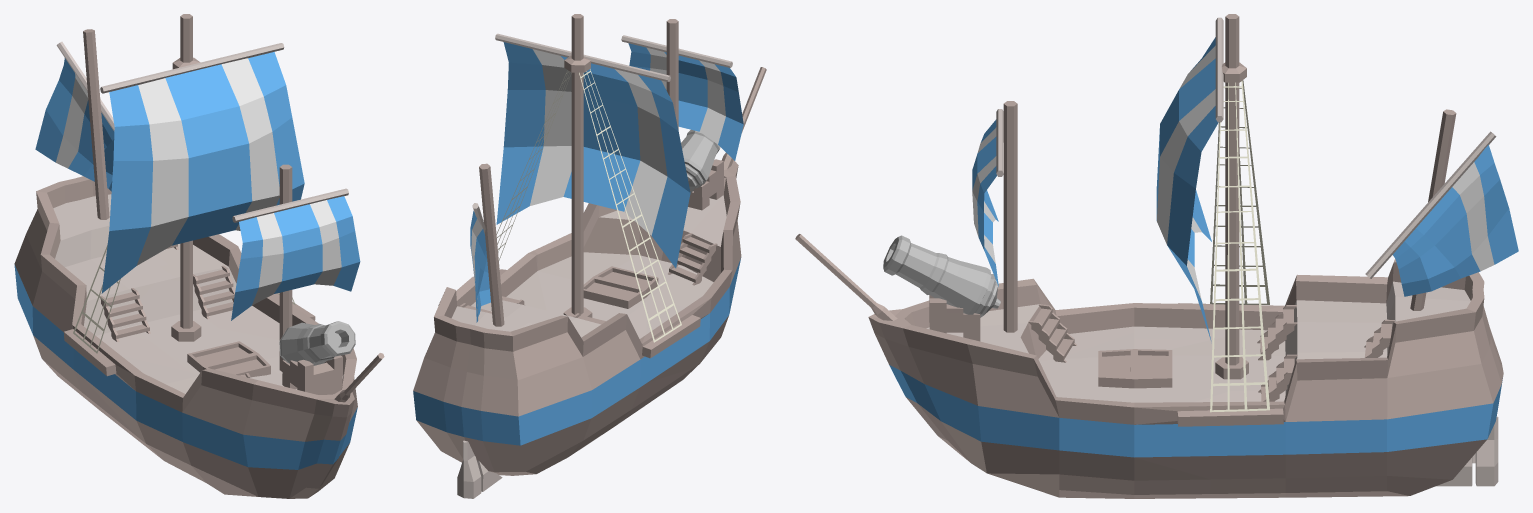
The model's file is calionSon.fbx.
The picture shows the model from 3 angles, left to right: view 1: azimuth 30°, elevation 25°; view 2: azimuth 150°, elevation 25°; view 3: azimuth 270°, elevation 25°; orthographic projection. The views are drawn at different scales.
Visible parts, largest first — view 1: hullFront.010, sailMiddle.012, hullBack.010, sailFront.002, sailBack.002, cannon.002, mastBack.002, cannonSeat.002, mastMiddle.006, ladder.008, Cylinder.038, ladder.007 (+6 smaller); view 2: hullBack.010, sailMiddle.012, hullFront.010, sailFront.002, mastMiddle.006, ropes.002, mastBack.002, cannon.002, sailBack.002, rudder.002, ladder.006, Cylinder.038 (+4 smaller); view 3: hullBack.010, hullFront.010, sailBack.002, sailMiddle.012, ropes.002, cannon.002, mastMiddle.006, mastFront.002, sailFront.002, rudder.002, Cylinder.039, cannonSeat.002 (+6 smaller).
Boxes of the visible parts, bbox=[...] form: hullFront.010: bbox=[63, 317, 357, 498]; sailMiddle.012: bbox=[101, 52, 304, 293]; hullBack.010: bbox=[14, 176, 318, 456]; sailFront.002: bbox=[231, 196, 360, 320]; sailBack.002: bbox=[35, 58, 114, 191]; cannon.002: bbox=[279, 321, 355, 365]; mastBack.002: bbox=[83, 29, 109, 219]; cannonSeat.002: bbox=[282, 355, 342, 394]; mastMiddle.006: bbox=[172, 14, 200, 328]; ladder.008: bbox=[100, 288, 150, 342]; Cylinder.038: bbox=[100, 43, 284, 93]; ladder.007: bbox=[193, 265, 235, 319]; hullBack.010: bbox=[413, 253, 691, 475]; sailMiddle.012: bbox=[496, 42, 690, 268]; hullFront.010: bbox=[528, 160, 741, 382]; sailFront.002: bbox=[628, 43, 743, 160]; mastMiddle.006: bbox=[564, 14, 590, 314]; ropes.002: bbox=[496, 69, 681, 342]; mastBack.002: bbox=[479, 163, 504, 326]; cannon.002: bbox=[681, 129, 720, 192]; sailBack.002: bbox=[470, 211, 490, 322]; rudder.002: bbox=[457, 440, 502, 498]; ladder.006: bbox=[668, 233, 717, 285]; Cylinder.038: bbox=[495, 33, 670, 81]; hullBack.010: bbox=[1134, 259, 1503, 497]; hullFront.010: bbox=[868, 278, 1284, 498]; sailBack.002: bbox=[1393, 145, 1518, 296]; sailMiddle.012: bbox=[1156, 37, 1218, 341]; ropes.002: bbox=[1210, 80, 1269, 412]; cannon.002: bbox=[883, 235, 1000, 317]; mastMiddle.006: bbox=[1222, 14, 1246, 365]; mastFront.002: bbox=[1003, 101, 1017, 332]; sailFront.002: bbox=[972, 119, 998, 286]; rudder.002: bbox=[1436, 416, 1498, 486]; Cylinder.039: bbox=[1365, 131, 1496, 278]; cannonSeat.002: bbox=[929, 295, 980, 341].
Size of the model in its own units: 2.54 by 4.86 by 6.8.
